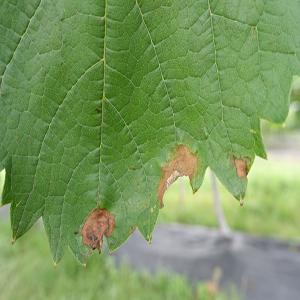Folha: (0, 0, 299, 267)
Fungo: (156, 142, 198, 208), (80, 206, 116, 255), (233, 154, 248, 206), (227, 150, 251, 181), (234, 154, 248, 180), (165, 169, 182, 189), (94, 106, 102, 114)
